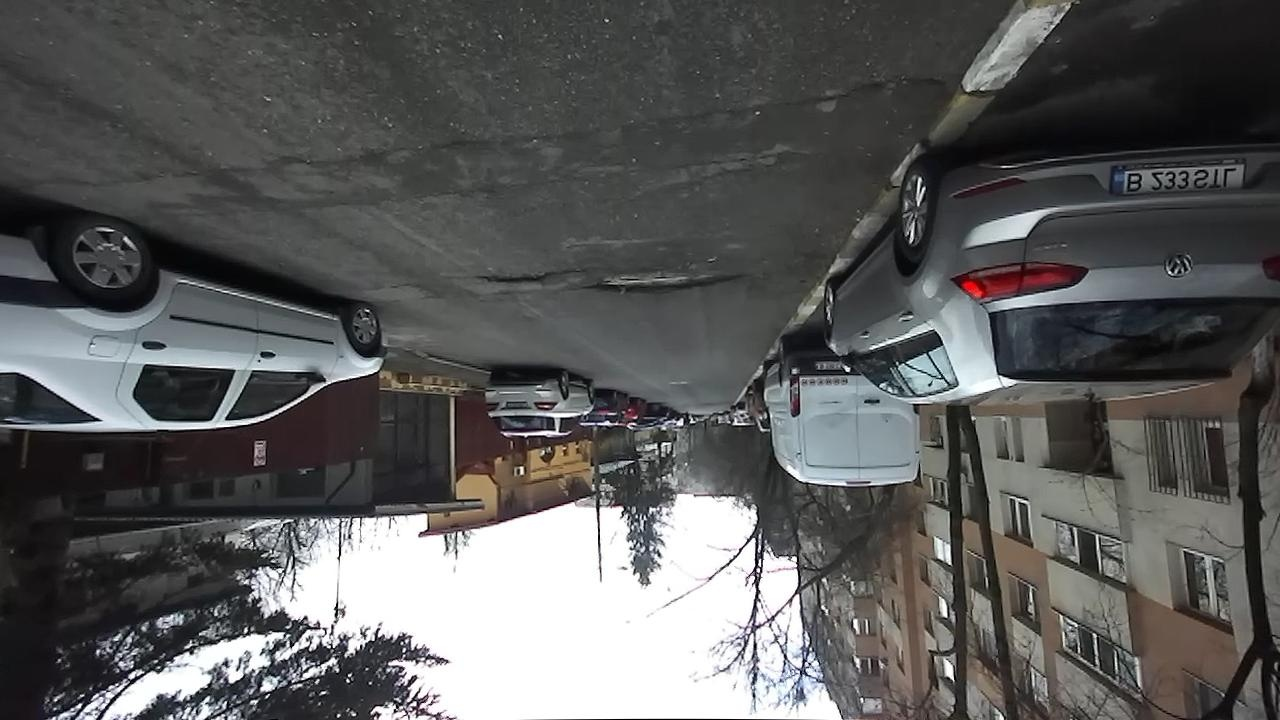pothole: (580, 262, 749, 297), (802, 70, 944, 111), (473, 268, 558, 288)
